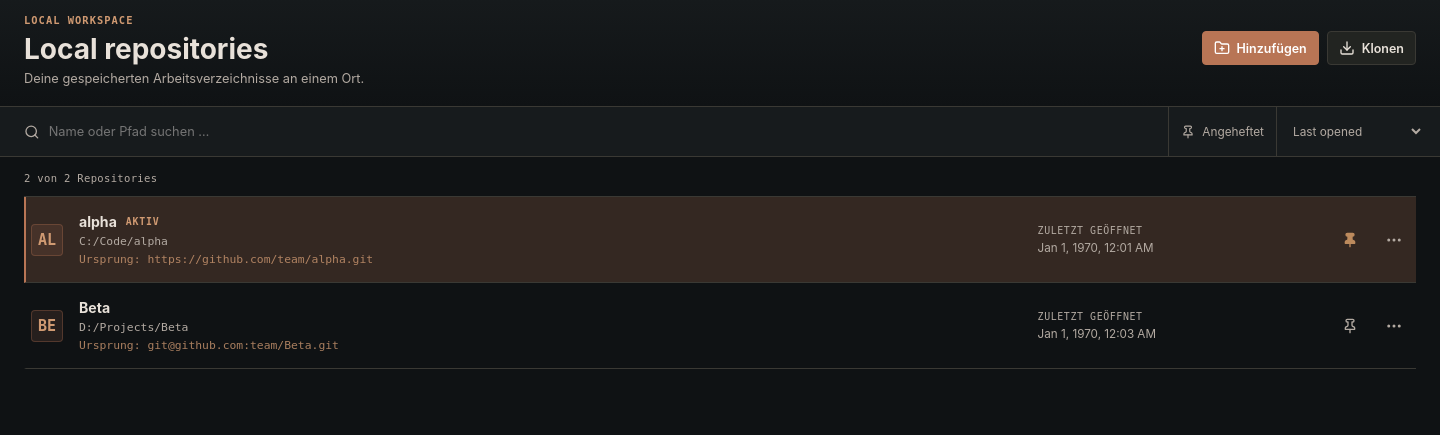
Test: LocalRepositoriesView › opens analytics from the context menu after activation succeeds for C:/Code/alpha
Right-click the element with class "local-repositories-view__row" that starts with "alpha": (720, 240) [24, 197, 1416, 283]
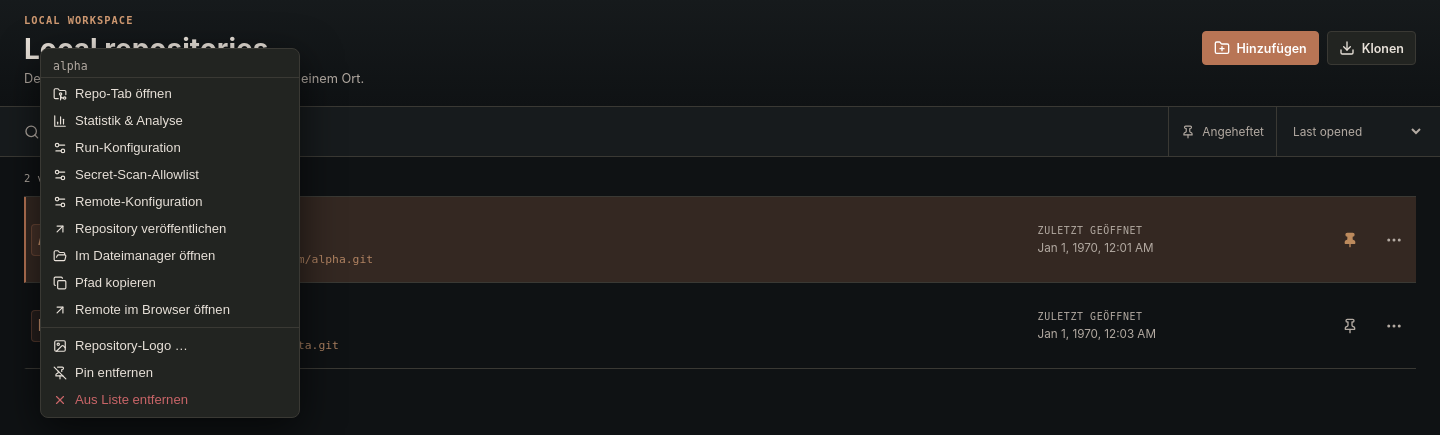
expect the menu item "Statistik & Analyse" is shown: met
Click the menu item "Statistik & Analyse": (170, 120) [41, 107, 299, 134]
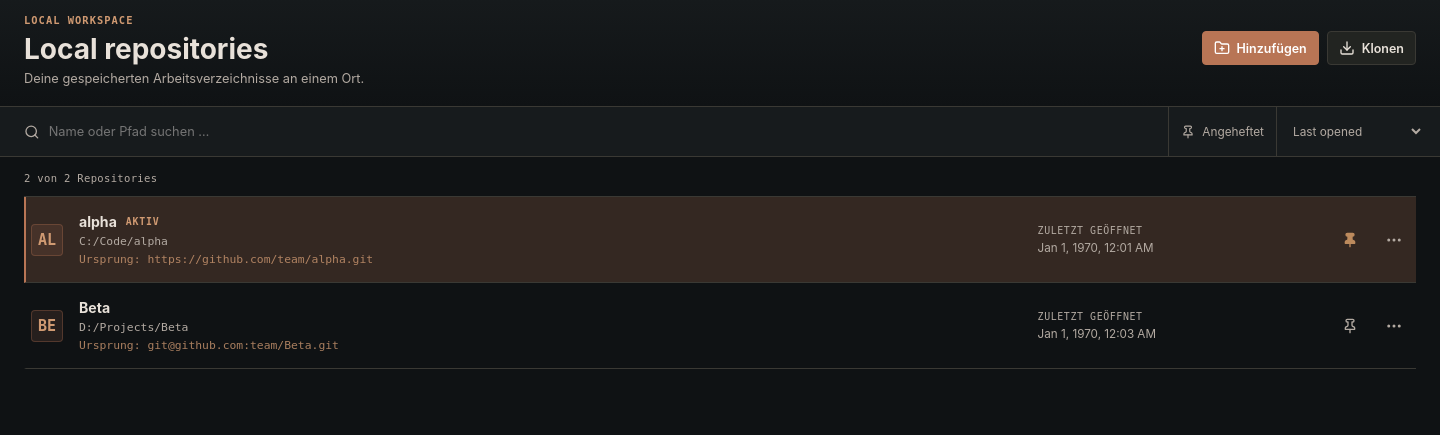
expect the menu with class "local-repository-context-menu" is gone: met
Right-click the element with class "local-repositories-view__row" that starts with "alpha": (720, 240) [24, 197, 1416, 283]
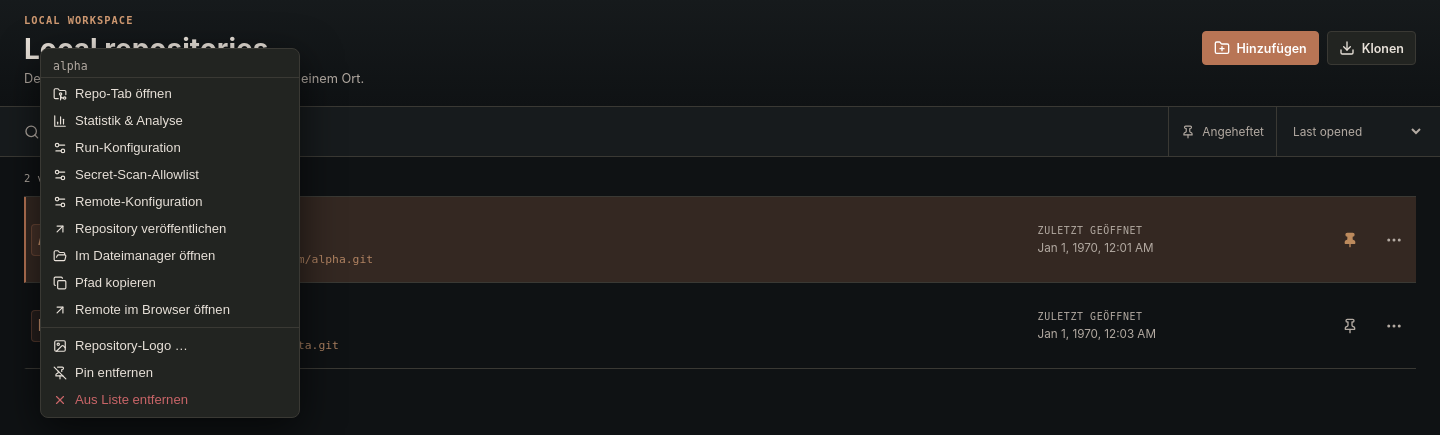
expect the menu item "Statistik & Analyse" is shown: met
Click the menu item "Statistik & Analyse": (170, 120) [41, 107, 299, 134]
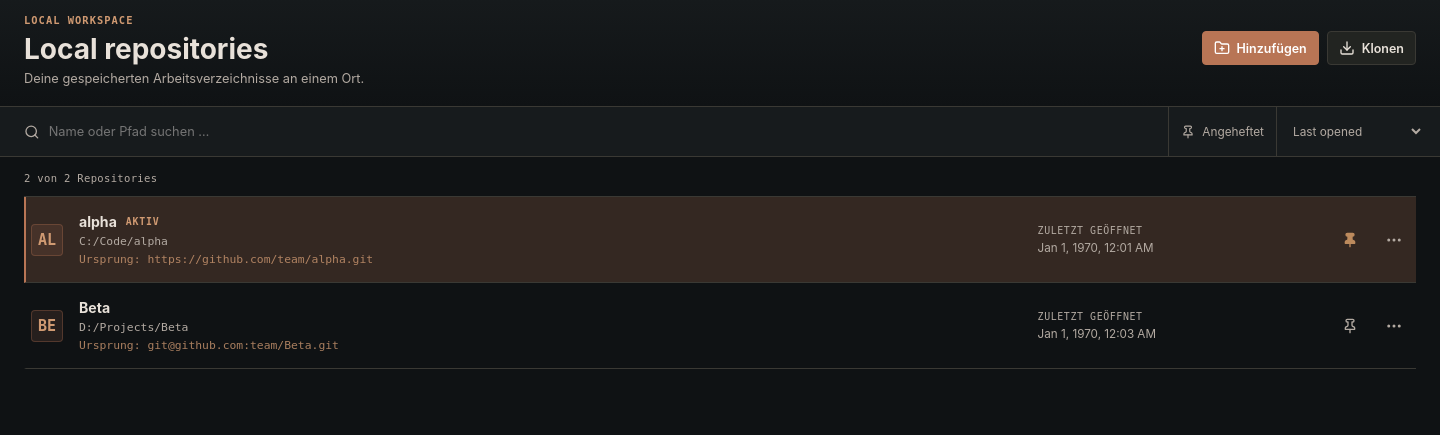
expect the menu with class "local-repository-context-menu" is gone: met
